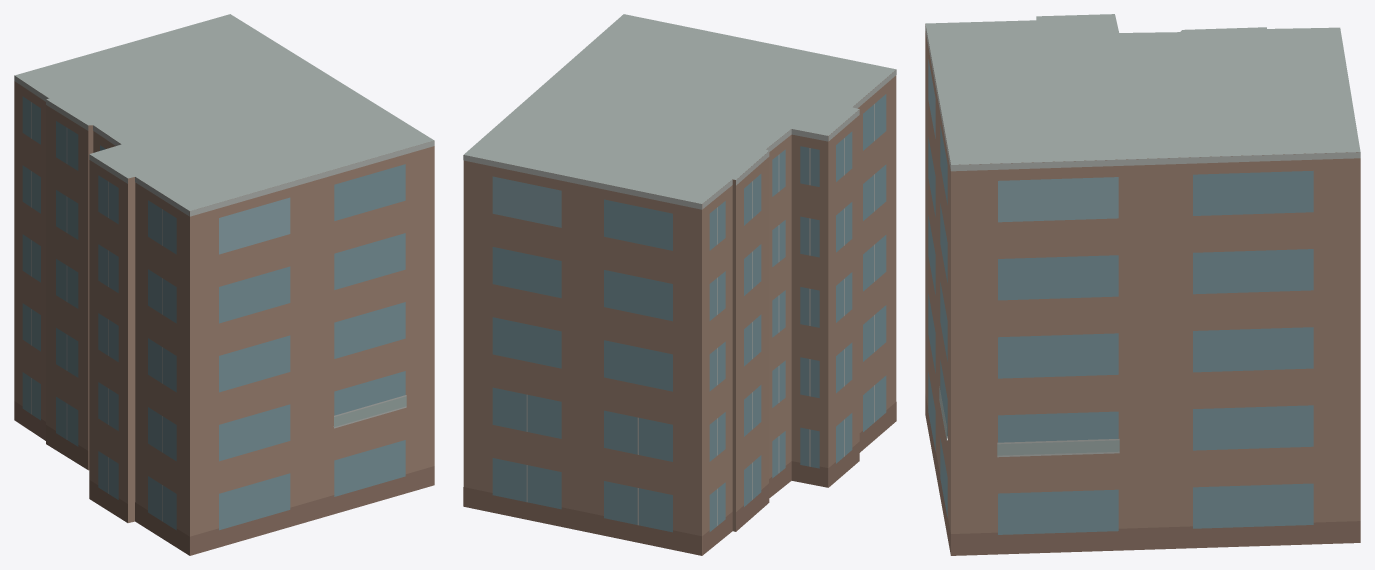
The model's file is survey-upis-32699066.glb.
The picture shows the model from 3 angles, left to right: view 1: azimuth 30°, elevation 25°; view 2: azimuth 150°, elevation 25°; view 3: azimuth 270°, elevation 25°; orthographic projection. The views are drawn at different scales.
Visible parts, largest first — view 1: survey-upis-32699066.tmp; view 2: survey-upis-32699066.tmp; view 3: survey-upis-32699066.tmp.
Part boxes in pixels (<box>): survey-upis-32699066.tmp: <box>14,14,434,555</box>; survey-upis-32699066.tmp: <box>463,14,896,555</box>; survey-upis-32699066.tmp: <box>925,14,1360,555</box>.
Size of the model in its own units: 12.56 by 15.15 by 15.3.
